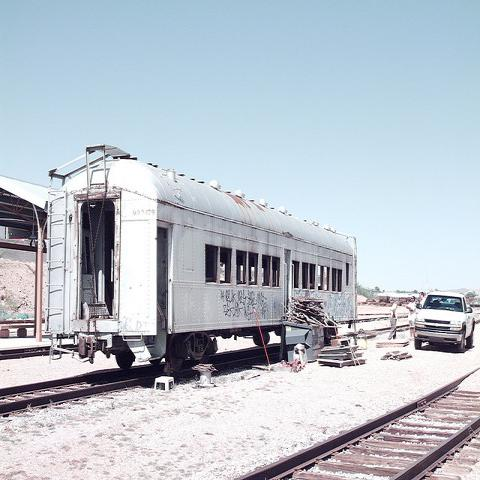car: (413, 292, 476, 352)
